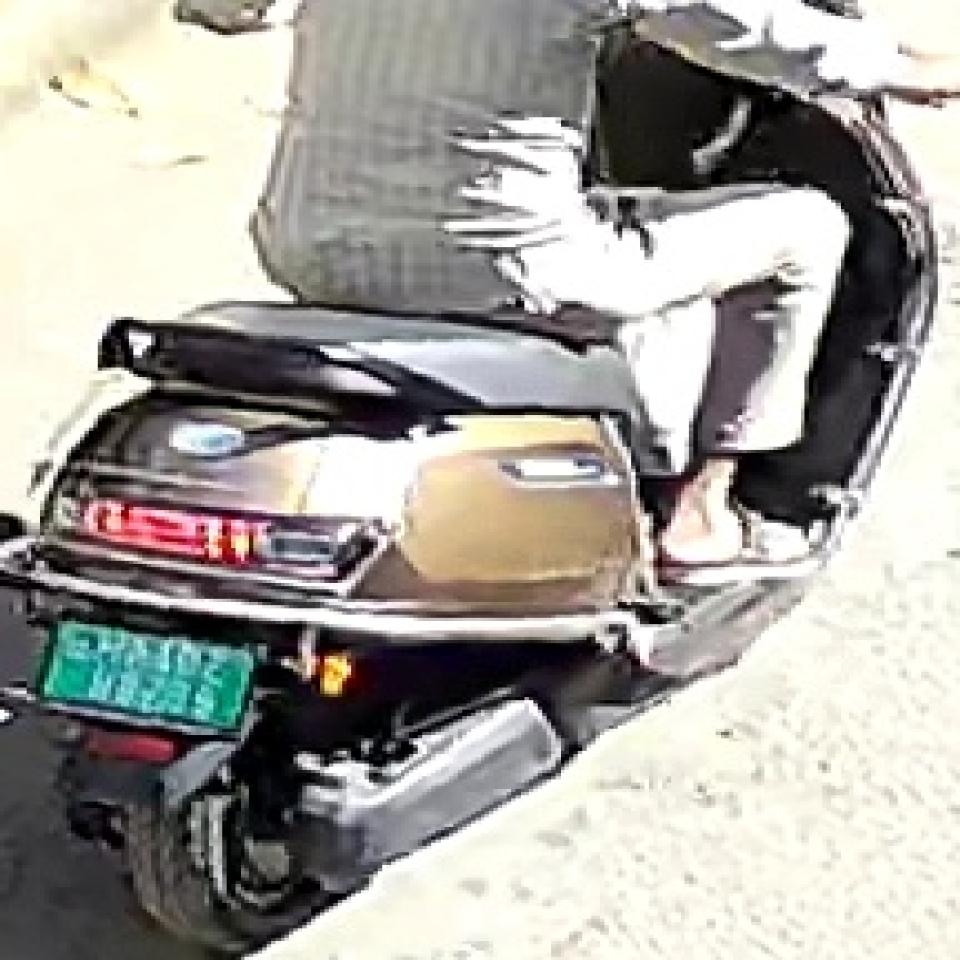tail_light: (78, 498, 264, 564)
